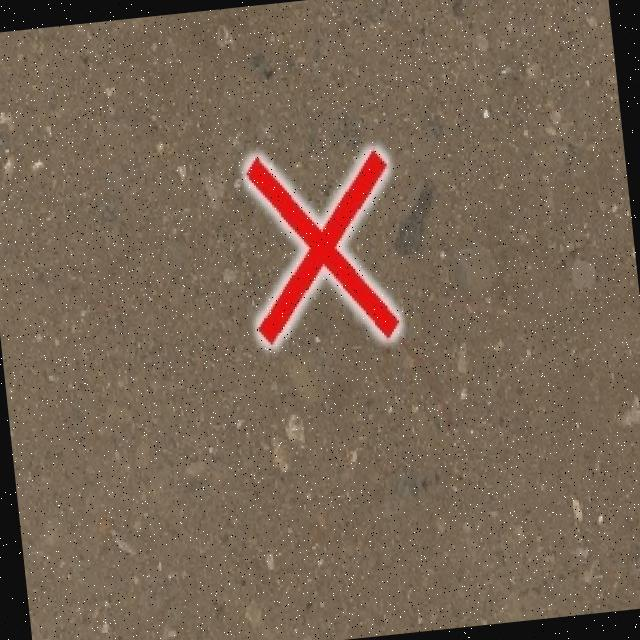x_marker: (240, 143, 403, 349)
